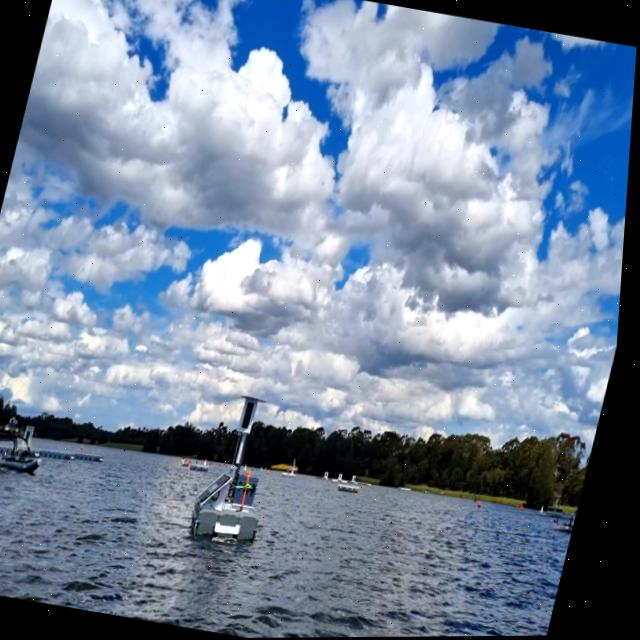led: (245, 399, 263, 432)
